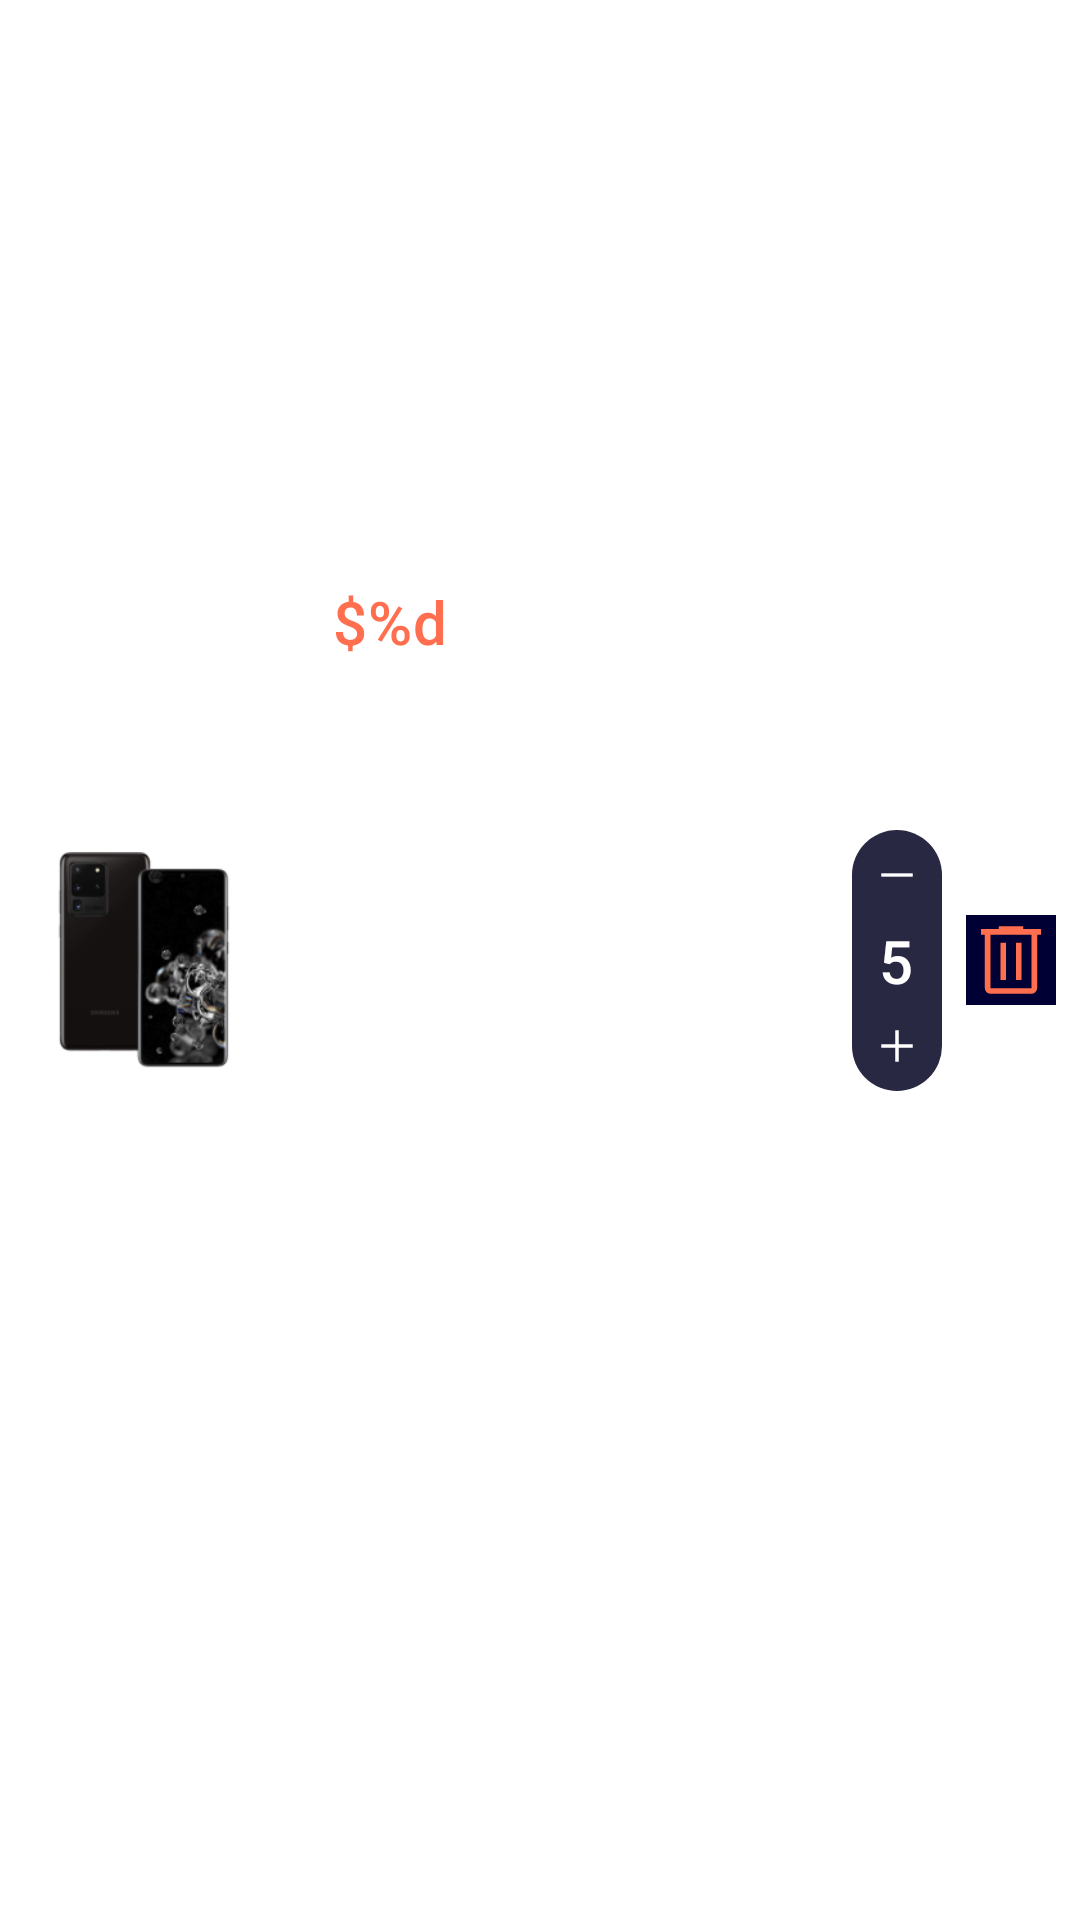

Point at icon controls on the screen. Image size 1080w x 1920h, points as (x,y).
picture samsung: (144,959)
plus: (897,1046)
trash: (1011,960)
